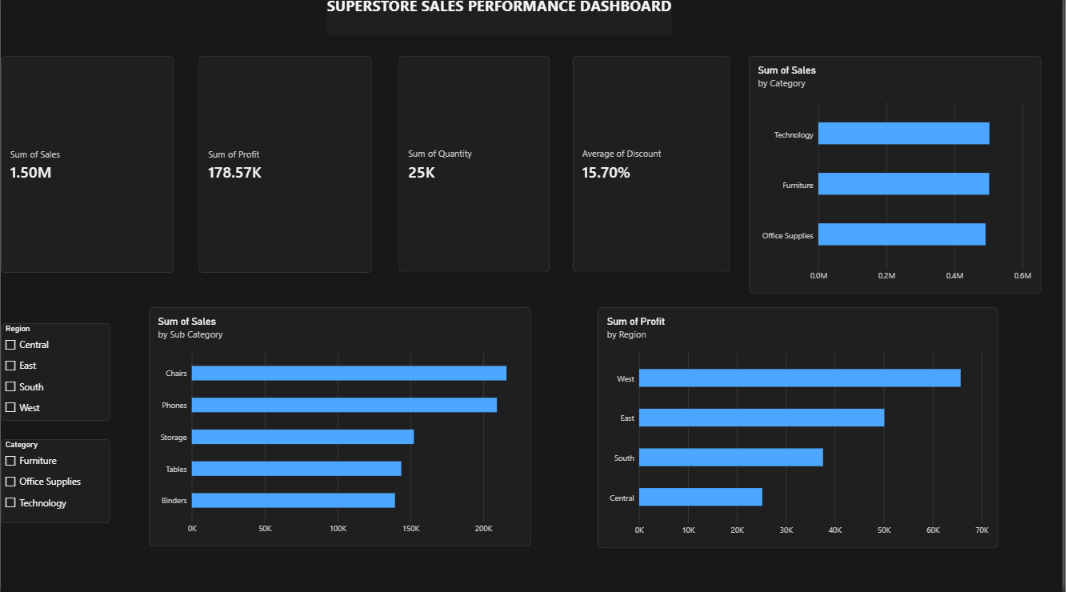

Layout of this report page (visuals, bound fields, positions):
{"tool":"powerbi","page":{"name":"DASHBOARD","canvas":[1920,1080],"ordinal":0},"visuals":[{"type":"cardVisual","fields":{"Data":["Sum(Sample - Superstore.Sales)"]},"box":[0,110.4,313.1,392.7],"z":0},{"type":"cardVisual","fields":{"Data":["Sum(Sample - Superstore.Profit)"]},"box":[358.3,110.4,313.1,392.7],"z":1000},{"type":"cardVisual","fields":{"Data":["Sum(Sample - Superstore.Quantity)"]},"box":[720.2,110.4,273.8,391.1],"z":2000},{"type":"cardVisual","fields":{"Data":["Avg(Sample - Superstore.Discount)"]},"box":[1035.3,111.1,284,391.1],"z":3000},{"type":"clusteredBarChart","fields":{"Category":["Sample - Superstore.Category"],"Y":["Sum(Sample - Superstore.Sales)"]},"box":[1353.6,110.4,528.4,428.9],"z":4000},{"type":"clusteredBarChart","fields":{"Category":["Sample - Superstore.Region"],"Y":["Sum(Sample - Superstore.Profit)"]},"box":[1080.4,564.6,723.9,436.1],"z":5000},{"type":"slicer","fields":{"Values":["Sample - Superstore.Region"]},"box":[0,593.6,197.6,177],"z":6000},{"type":"slicer","fields":{"Values":["Sample - Superstore.Category"]},"box":[0,803.5,197.3,152],"z":7000},{"type":"clusteredBarChart","fields":{"Category":["Sample - Superstore.Sub Category"],"Y":["Sum(Sample - Superstore.Sales)"]},"box":[267.8,564.6,691.3,432.5],"z":8000},{"type":"textbox","box":[589.9,0,624.3,72.4],"z":8001}]}

Visuals, with their boxes in screenshot pixels (x1, y1, x2, y2), scaled from the page's 1920x1080 canvas onto the 1066x592 screenshot:
cardVisual - Sum(Sample - Superstore.Sales): l=0, t=61, r=174, b=276
cardVisual - Sum(Sample - Superstore.Profit): l=199, t=61, r=373, b=276
cardVisual - Sum(Sample - Superstore.Quantity): l=400, t=61, r=552, b=275
cardVisual - Avg(Sample - Superstore.Discount): l=575, t=61, r=732, b=275
clusteredBarChart - Sample - Superstore.Category x Sum(Sample - Superstore.Sales): l=752, t=61, r=1045, b=296
clusteredBarChart - Sample - Superstore.Region x Sum(Sample - Superstore.Profit): l=600, t=309, r=1002, b=549
slicer - Sample - Superstore.Region: l=0, t=325, r=110, b=422
slicer - Sample - Superstore.Category: l=0, t=440, r=110, b=524
clusteredBarChart - Sample - Superstore.Sub Category x Sum(Sample - Superstore.Sales): l=149, t=309, r=533, b=547
textbox: l=328, t=0, r=674, b=40
